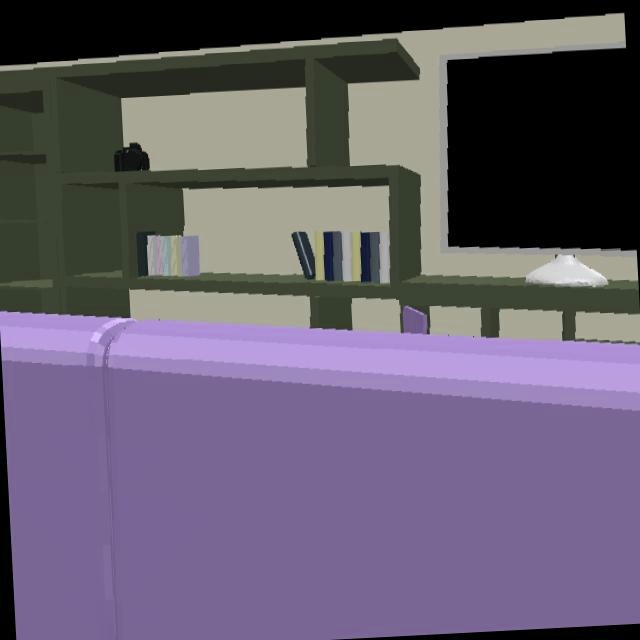book: (292, 232, 391, 282), (138, 234, 198, 276)
monitor: (441, 49, 637, 249), (527, 254, 605, 284)
shelf: (0, 39, 639, 339)
sofa: (0, 313, 640, 640)
